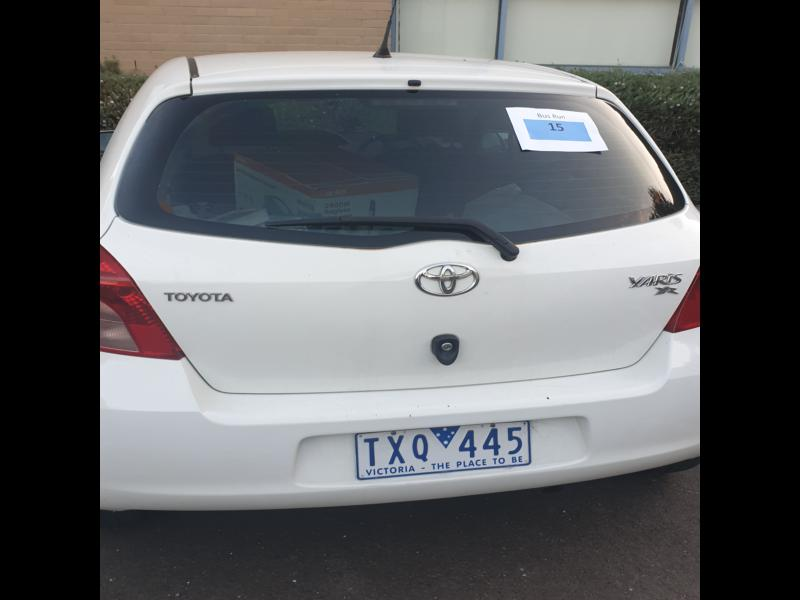BusRun: (522, 118, 592, 141)
PlateNo: (357, 415, 533, 481)
